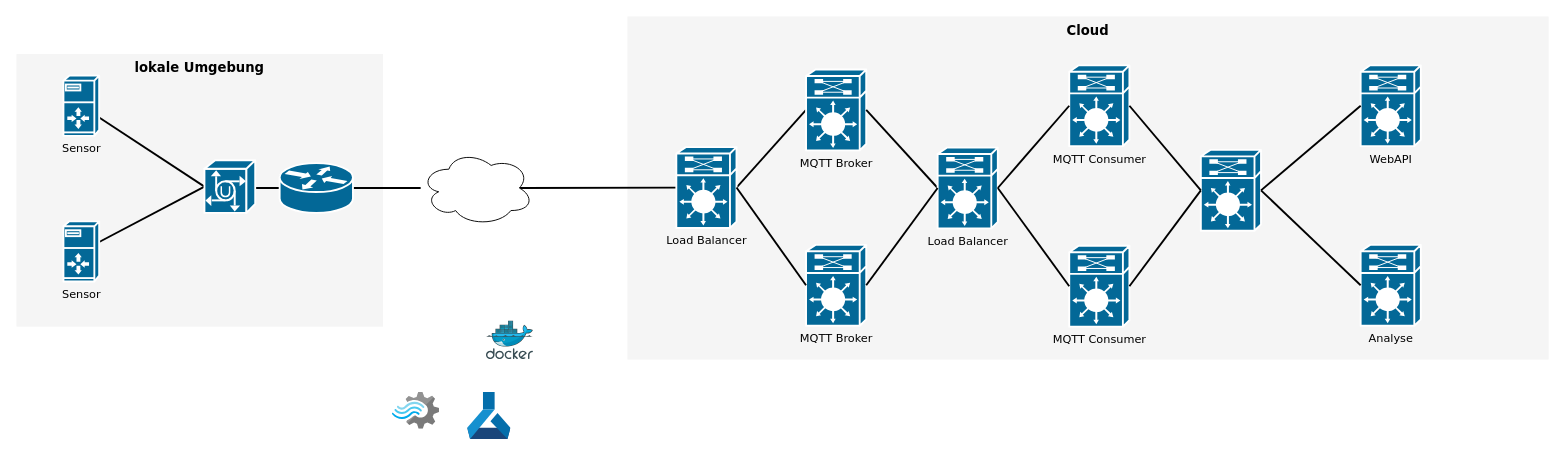
The diagram is 1564 pixels wide and 455 high, and some of its shapes have lost their labels. Here are the shapes that lost their labels. From the top down, the centre of each, then its label:
At point (229, 186): "Sensor Gateway MQTT Producer".
At point (476, 187): "Internet".
At point (1230, 190): "NoSQL DB".
